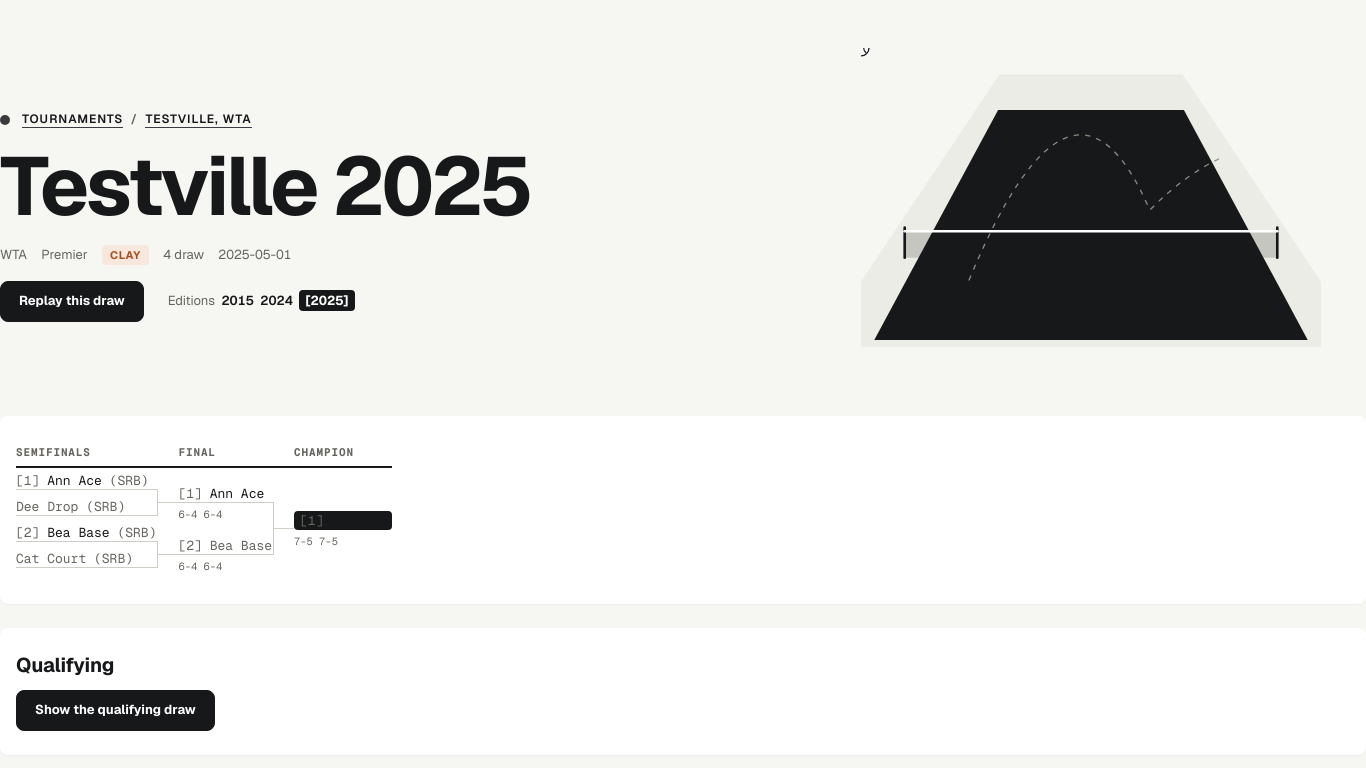
Scenario: Edition › keeps qualifying behind a button on the sheet
Expected: the text "Qualified" is not shown
Click the button "Show the qualifying draw" at (115, 711), box [16, 690, 215, 731]
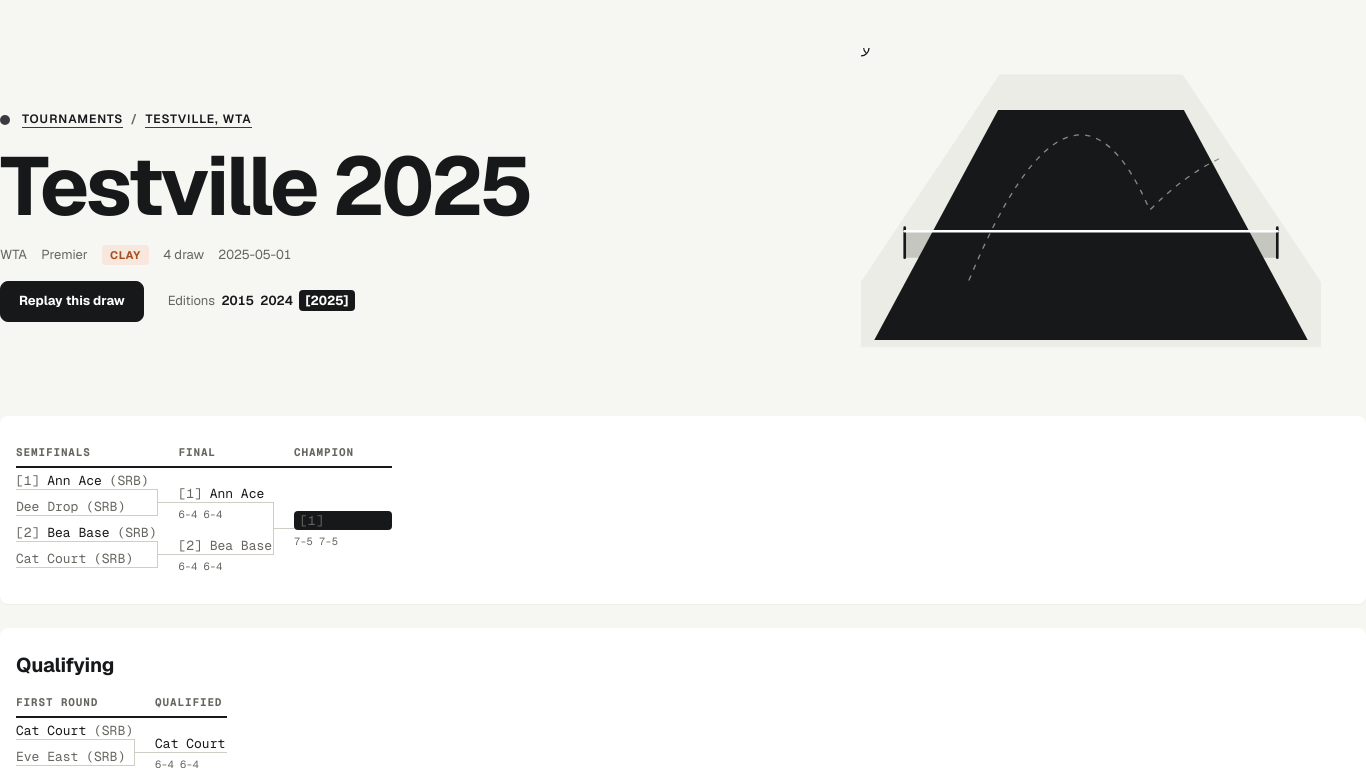
Result: the text "Qualified" is shown at [135, 690, 227, 718]
